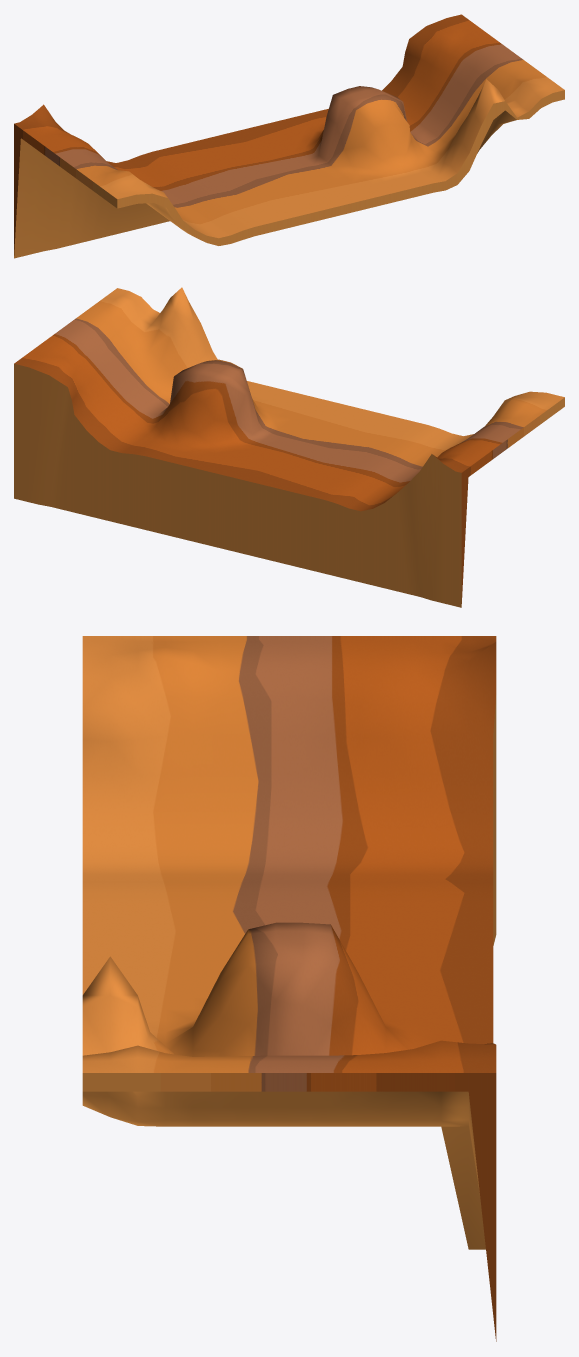
File: tileableMedium5.fbx
3 views of the same model, one above another, from view 1: azimuth 30°, elevation 25°; view 2: azimuth 150°, elevation 25°; view 3: azimuth 270°, elevation 25° (orthographic). The views are drawn at different scales.
Parts seen in each view (by area): view 1: tileableMedium5; view 2: tileableMedium5; view 3: tileableMedium5.
Part boxes in pixels (left/top/right/bottom): tileableMedium5: left=14, top=14, right=564, bottom=258; tileableMedium5: left=14, top=287, right=564, bottom=607; tileableMedium5: left=82, top=636, right=496, bottom=1341.
Size of the model in its own units: 0.5 by 0.169 by 0.2.
